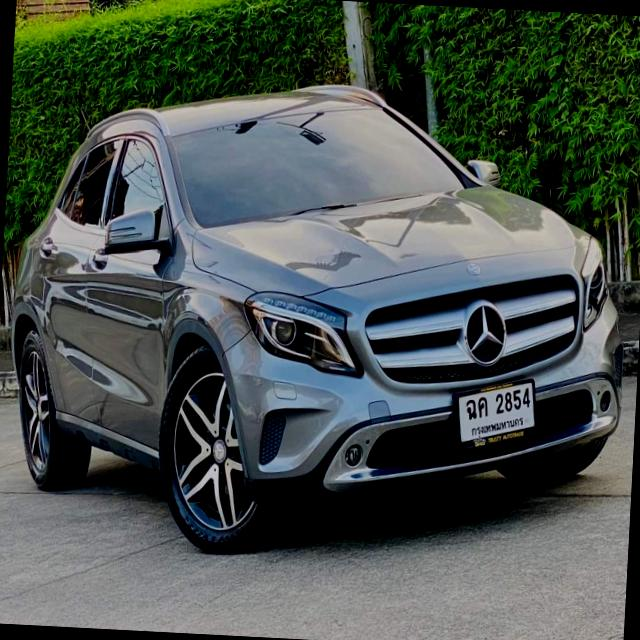license_plate: (448, 372, 547, 458)
